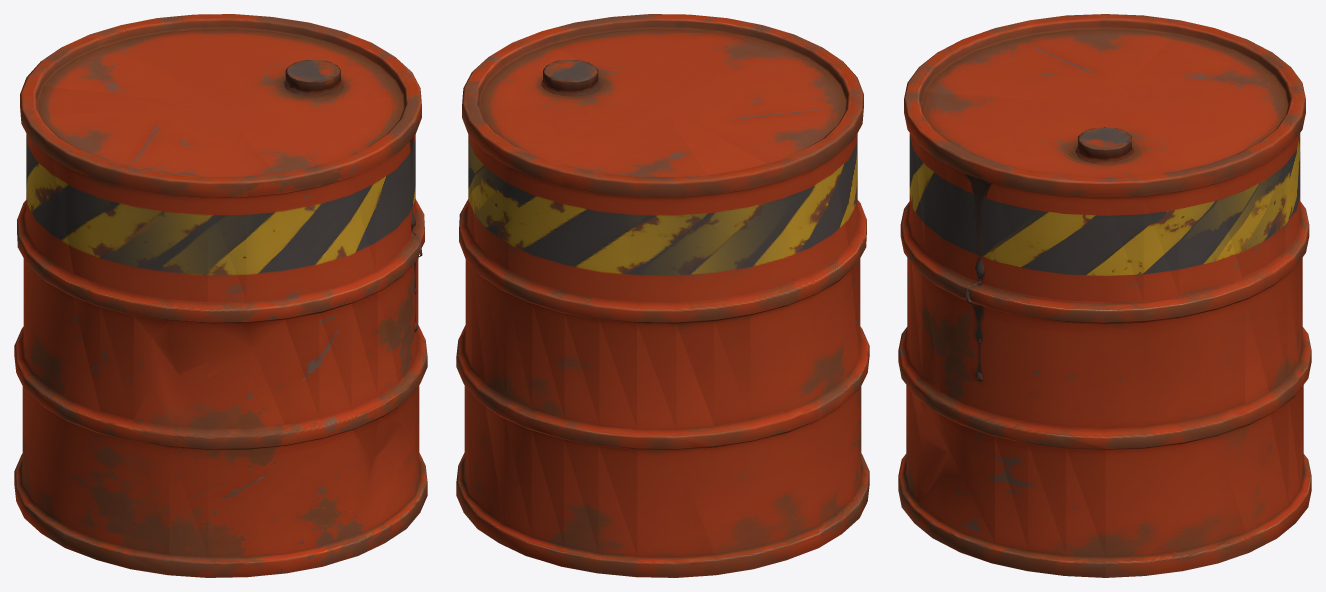
Rendered from prop_oil_barrel.glb.
The picture shows the model from 3 angles, left to right: view 1: azimuth 30°, elevation 25°; view 2: azimuth 150°, elevation 25°; view 3: azimuth 270°, elevation 25°; orthographic projection.
Visible parts, largest first — view 1: prop_oil_barrel; view 2: prop_oil_barrel; view 3: prop_oil_barrel.
Part boxes in pixels (x1=…): prop_oil_barrel: x1=14, y1=14, x2=427, y2=577; prop_oil_barrel: x1=456, y1=14, x2=869, y2=577; prop_oil_barrel: x1=898, y1=14, x2=1311, y2=577.
Size of the model in its own units: 0.8 by 0.85 by 0.8.
Materials: 1 (1 with a texture image).
